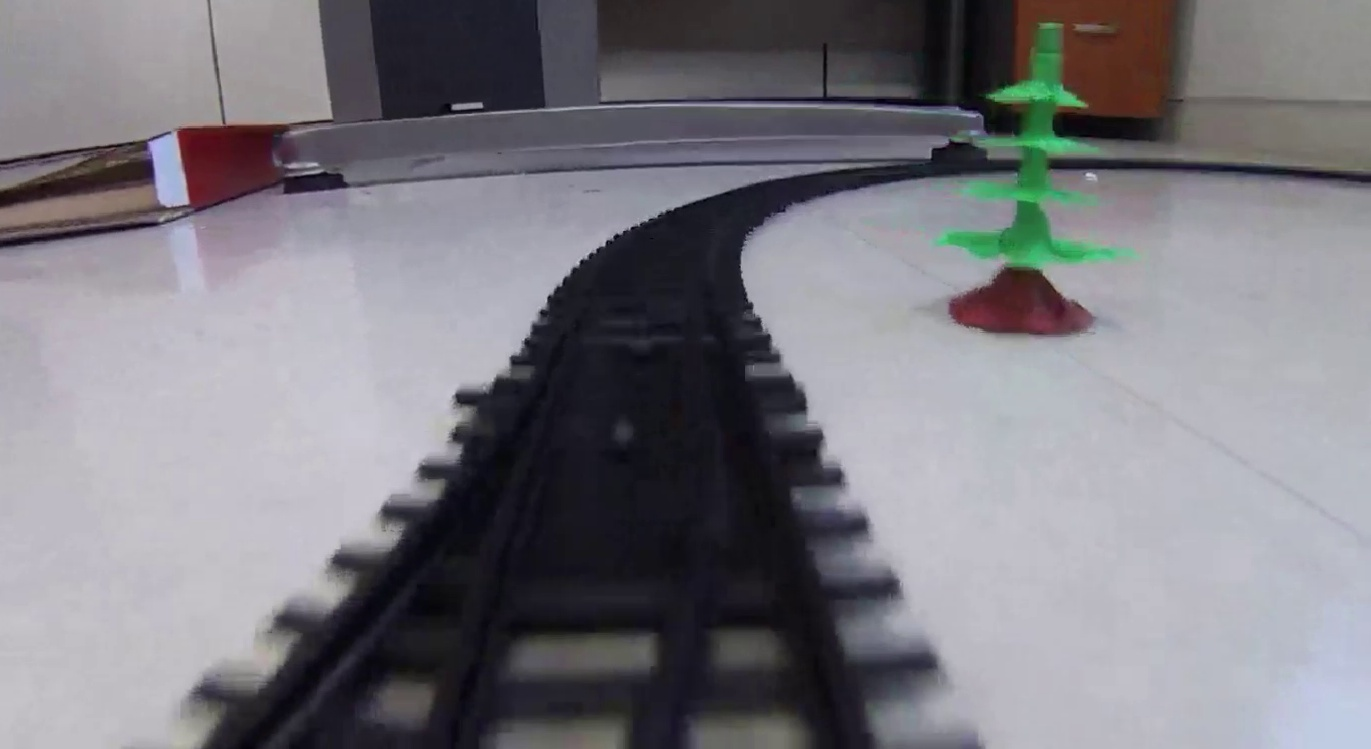tree: (936, 21, 1138, 337)
